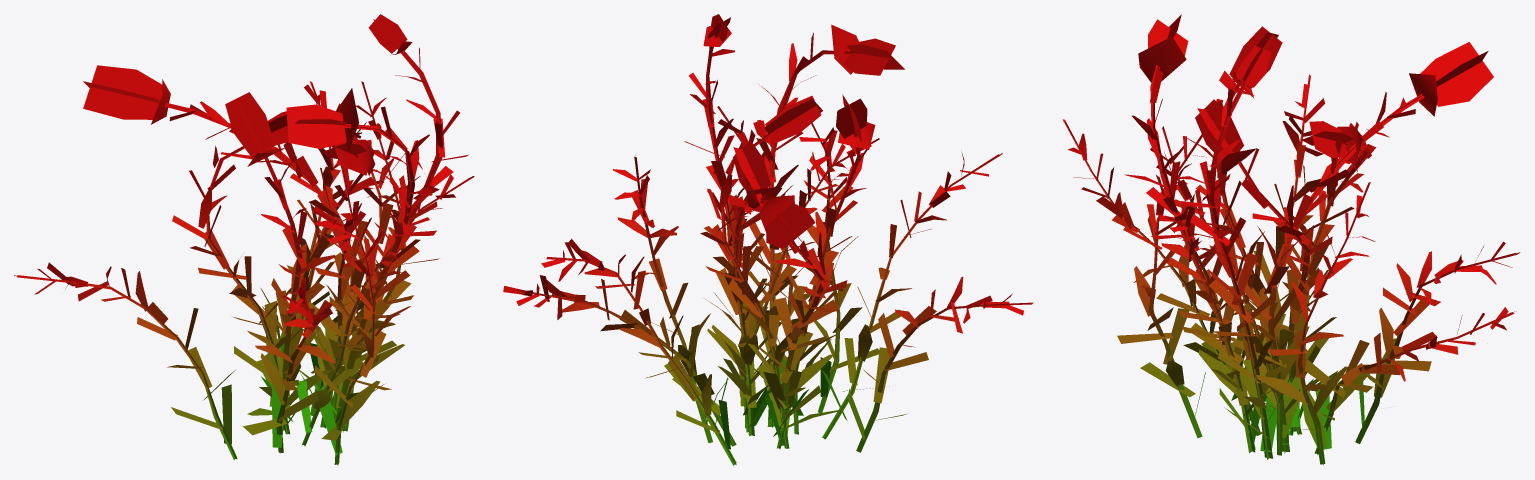
Rendered from Var6_LOD3.fbx.
3 views of the same model, side by side, from view 1: azimuth 30°, elevation 25°; view 2: azimuth 150°, elevation 25°; view 3: azimuth 270°, elevation 25° (orthographic). The views are drawn at different scales.
Visible parts, largest first — view 1: _7xsh_Var6_LOD3; view 2: _7xsh_Var6_LOD3; view 3: _7xsh_Var6_LOD3.
Boxes of the visible parts, x1,y1,x2,y2 form: _7xsh_Var6_LOD3: [14, 14, 474, 465]; _7xsh_Var6_LOD3: [503, 14, 1033, 465]; _7xsh_Var6_LOD3: [1062, 14, 1520, 465].
Size of the model in its own units: 34.02 by 30.06 by 29.01.
